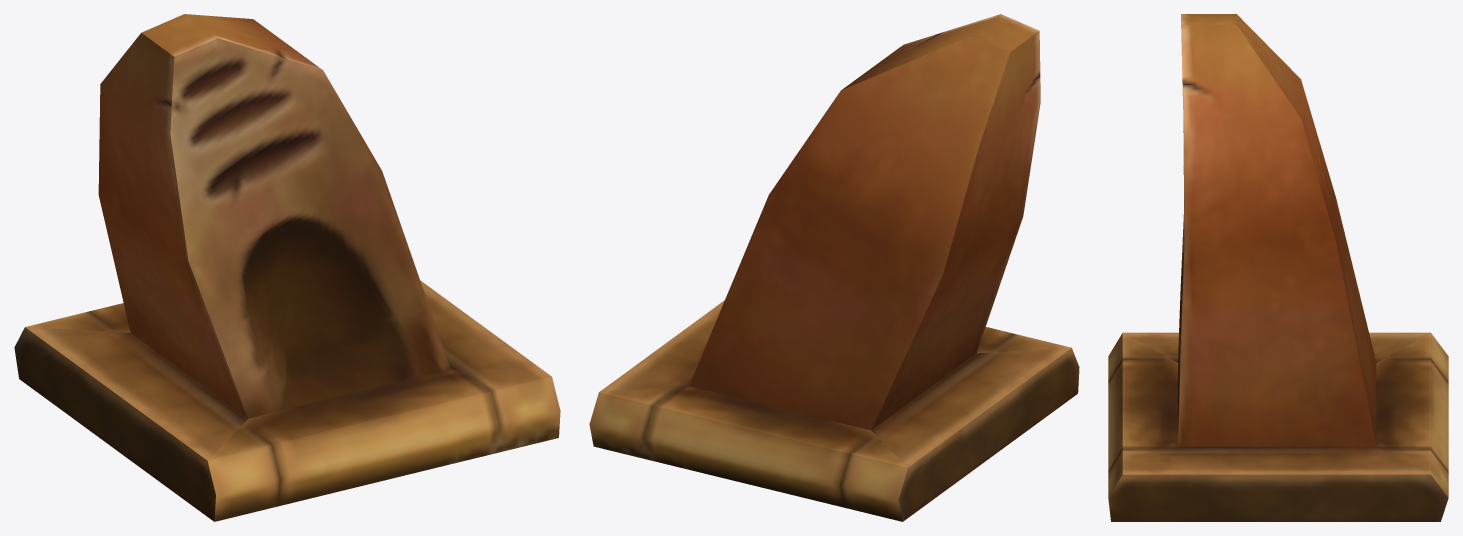
File: shibei05.FBX
3 renders of one model, left to right at view 1: azimuth 30°, elevation 25°; view 2: azimuth 150°, elevation 25°; view 3: azimuth 270°, elevation 25°, orthographic. The views are drawn at different scales.
Visible parts, largest first — view 1: shibei05; view 2: shibei05; view 3: shibei05.
Boxes of the visible parts, left/top/right/bottom form: shibei05: left=14, top=14, right=560, bottom=521; shibei05: left=589, top=14, right=1079, bottom=521; shibei05: left=1108, top=14, right=1448, bottom=521.
Size of the model in its own units: 39.51 by 48.28 by 39.87.
